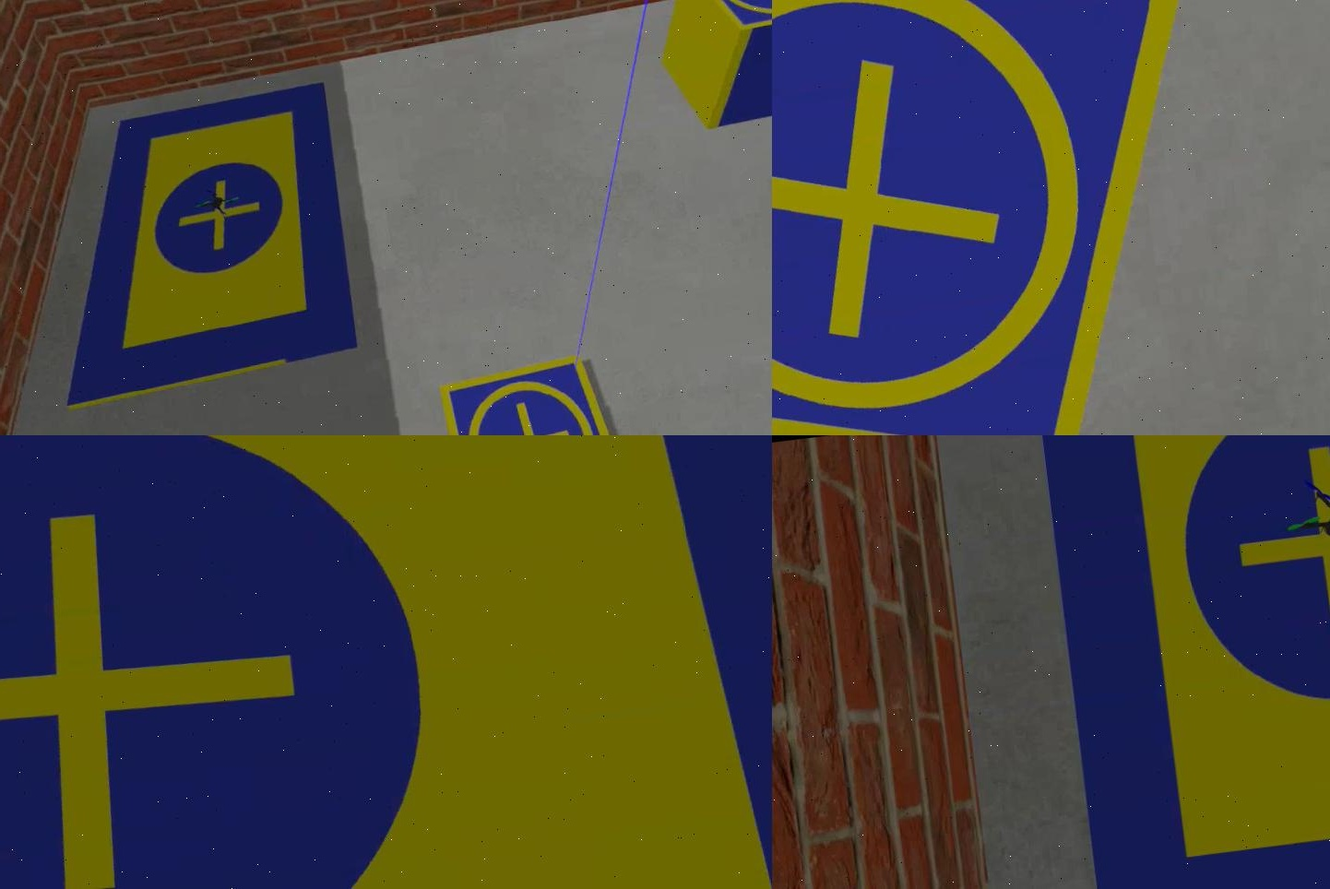large_base: (0, 435, 771, 889), (1038, 435, 1328, 889), (27, 77, 363, 413)
small_base: (771, 1, 1249, 435), (437, 352, 639, 435)
